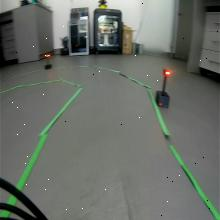red: (162, 68, 171, 78)
